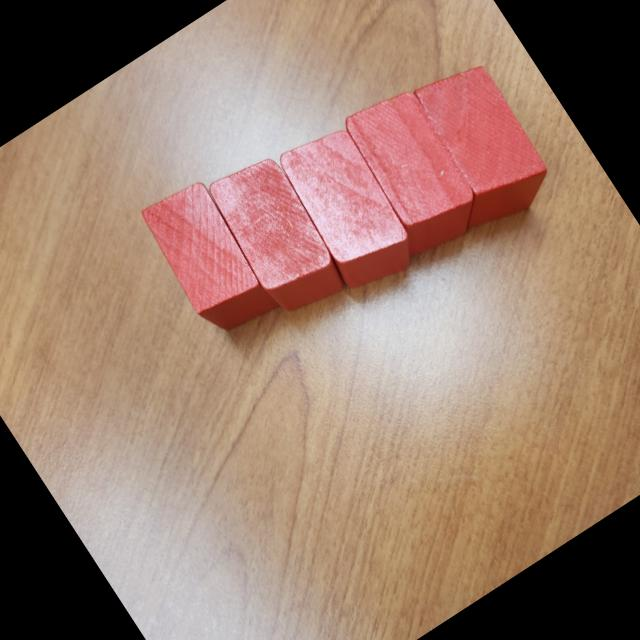red: (386, 50, 563, 244), (328, 78, 497, 269), (266, 116, 428, 302), (199, 146, 355, 326), (132, 172, 282, 344)
